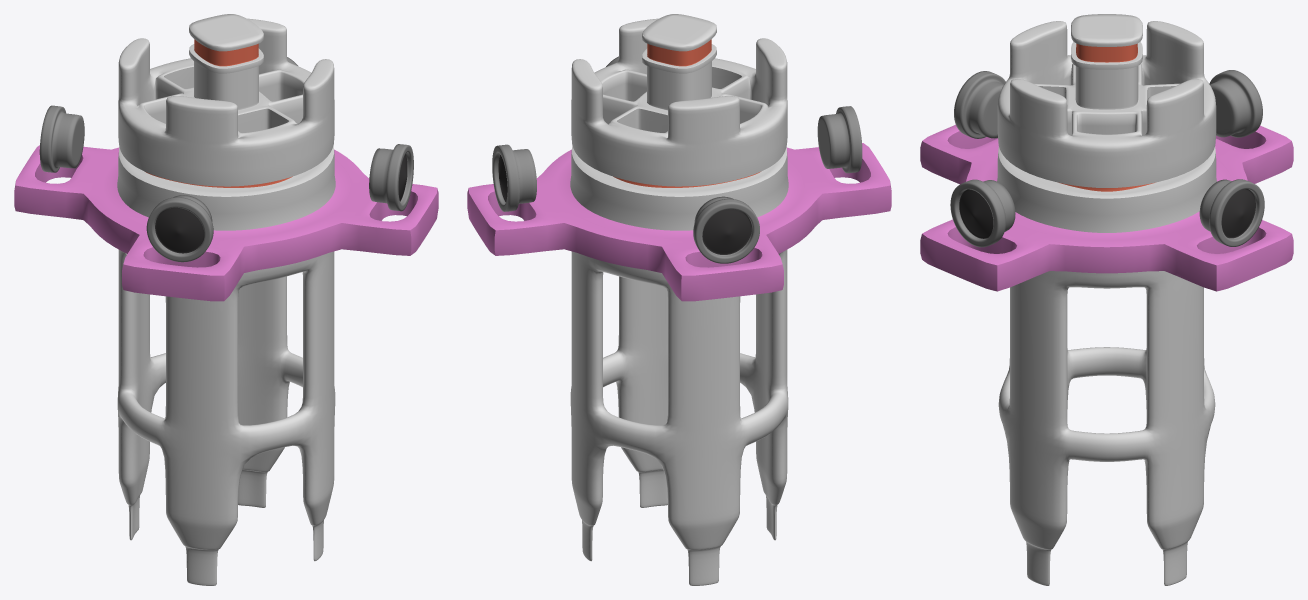
Rendered from SpacestationSolo.fbx.
3 views of the same model, side by side, from view 1: azimuth 30°, elevation 25°; view 2: azimuth 150°, elevation 25°; view 3: azimuth 270°, elevation 25° (orthographic).
Parts seen in each view (by area): view 1: SpaceStation, SpotLight.003, SpotLight.001, SpotLight.002; view 2: SpaceStation, SpotLight.001, SpotLight.003, SpotLight; view 3: SpaceStation, SpotLight, SpotLight.002, SpotLight.001, SpotLight.003.
Part boxes in pixels (x1,y1,x2,y2): SpaceStation: [14, 14, 438, 585]; SpotLight.003: [146, 195, 213, 262]; SpotLight.001: [39, 105, 84, 172]; SpotLight.002: [369, 144, 413, 211]; SpaceStation: [467, 14, 891, 585]; SpotLight.001: [693, 196, 759, 263]; SpotLight.003: [817, 106, 862, 173]; SpotLight: [492, 144, 536, 211]; SpaceStation: [920, 14, 1293, 585]; SpotLight: [1199, 179, 1264, 246]; SpotLight.002: [950, 179, 1015, 247]; SpotLight.001: [1209, 70, 1262, 137]; SpotLight.003: [954, 71, 1005, 138].
Bounding box in the file's own units: 330 × 513 × 330.
